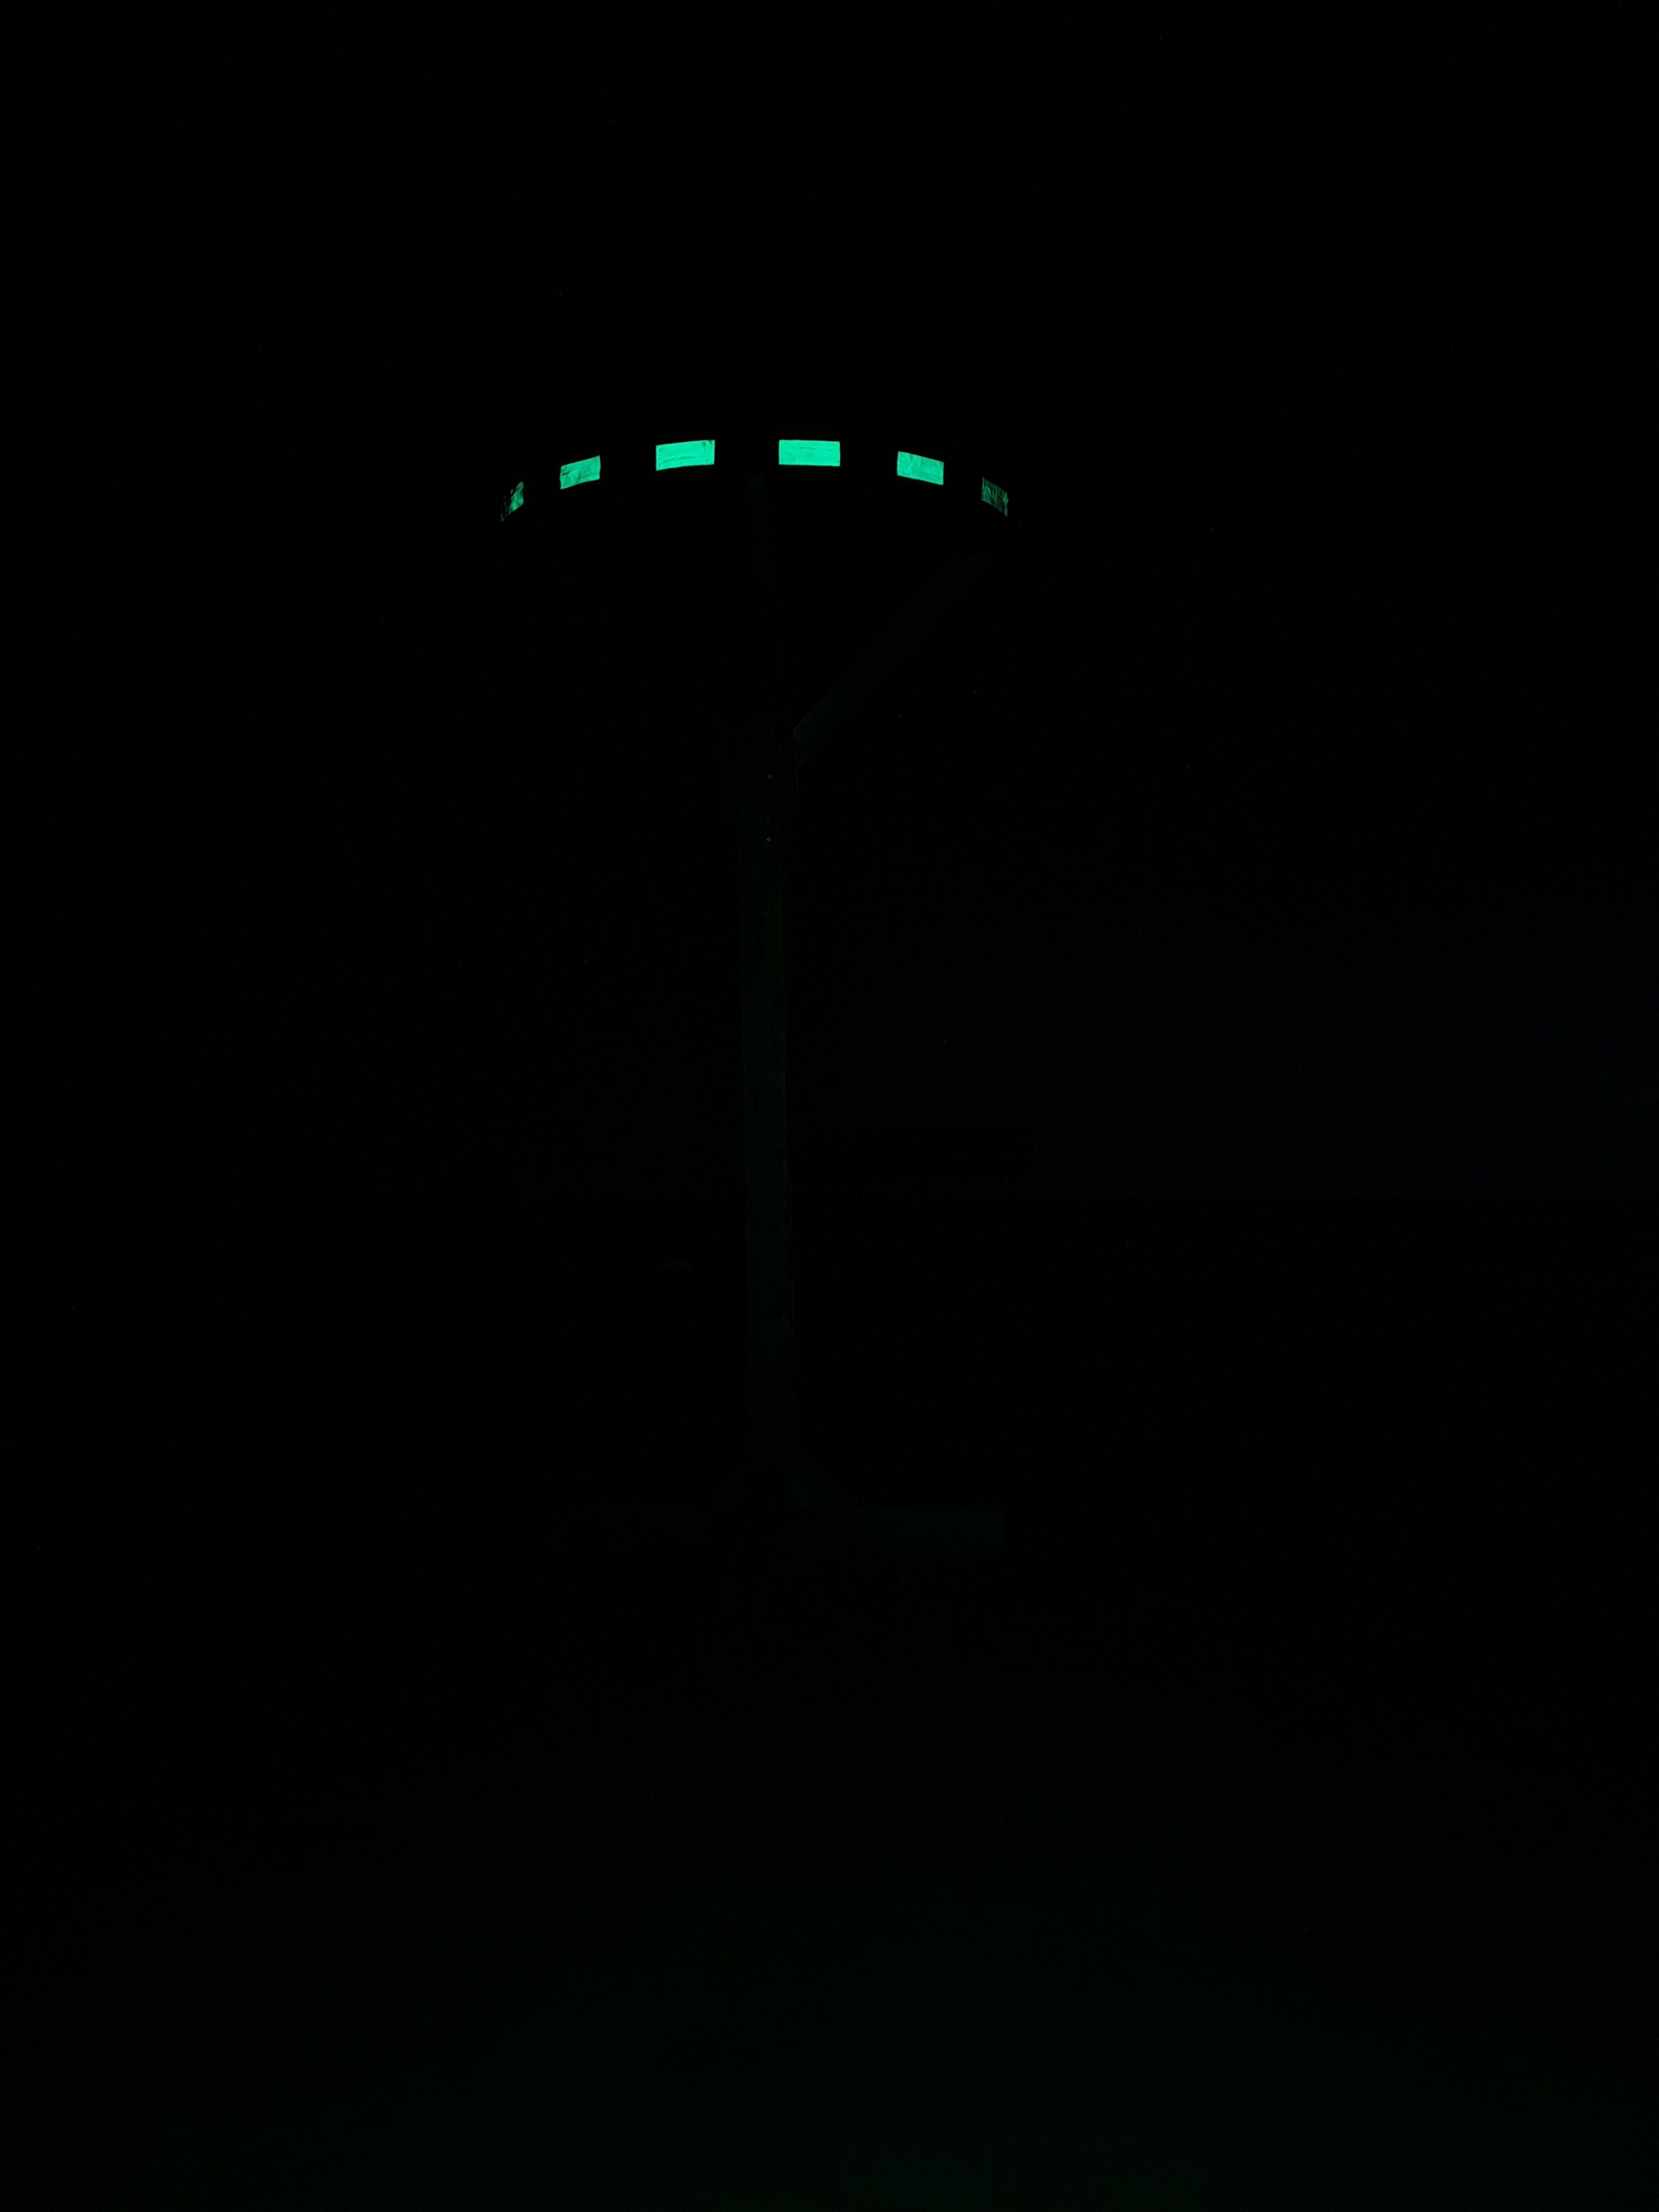hoop: (497, 428, 1014, 531)
